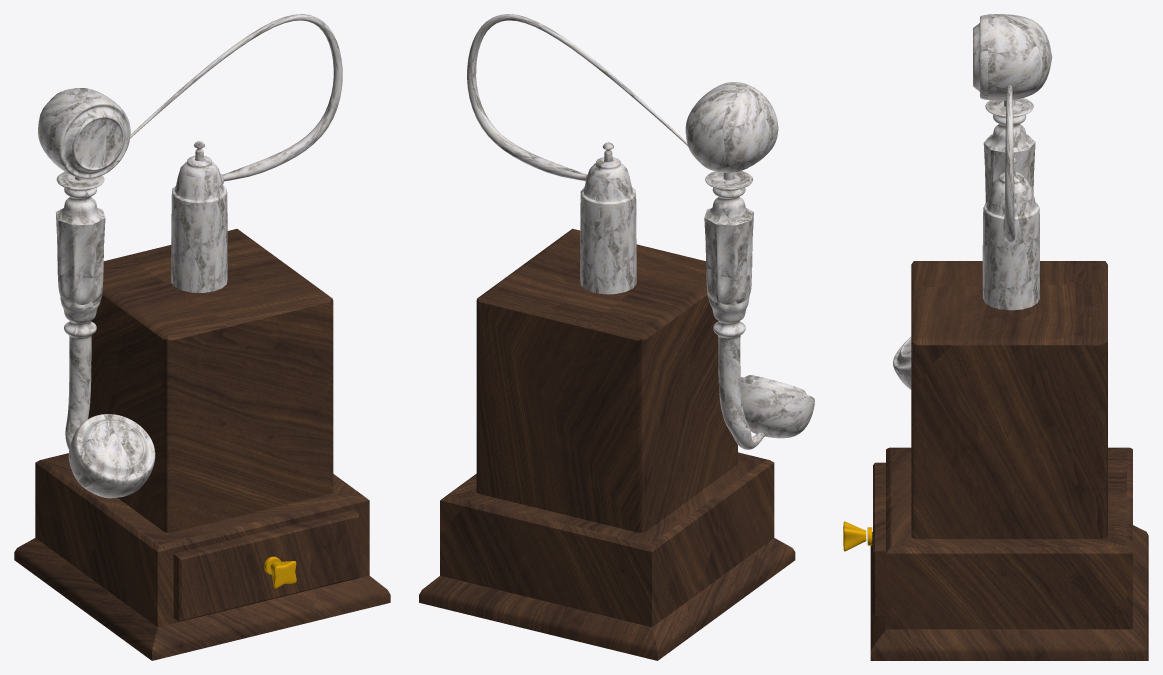
Rendered from telephone.fbx.
The picture shows the model from 3 angles, left to right: view 1: azimuth 30°, elevation 25°; view 2: azimuth 150°, elevation 25°; view 3: azimuth 270°, elevation 25°; orthographic projection.
Visible parts, largest first — view 1: pCube4, polySurface4, pCylinder12, pCylinder15, pCylinder16, pCylinder13, pCylinder17; view 2: pCube4, polySurface4, pCylinder12, pCylinder15, pCylinder13, pCylinder16; view 3: pCube4, pCylinder12, pCylinder15, polySurface4, pCylinder13, pCylinder16, pCylinder17.
Boxes of the visible parts, <box> form: pCube4: <box>14,229,390,660</box>; polySurface4: <box>55,172,105,449</box>; pCylinder12: <box>171,141,227,292</box>; pCylinder15: <box>38,88,130,178</box>; pCylinder16: <box>68,414,155,498</box>; pCylinder13: <box>130,14,342,181</box>; pCylinder17: <box>270,561,296,588</box>; pCube4: <box>419,228,795,660</box>; polySurface4: <box>704,170,765,449</box>; pCylinder12: <box>580,142,636,294</box>; pCylinder15: <box>685,82,778,172</box>; pCylinder13: <box>467,14,687,180</box>; pCylinder16: <box>740,375,814,438</box>; pCube4: <box>870,261,1148,660</box>; pCylinder12: <box>982,158,1039,310</box>; pCylinder15: <box>973,14,1052,100</box>; polySurface4: <box>983,98,1035,202</box>; pCylinder13: <box>1003,85,1015,242</box>; pCylinder16: <box>893,337,911,389</box>; pCylinder17: <box>843,521,866,551</box>.
Size of the model in its own units: 11.46 by 19.58 by 9.86.
5 materials, 4 textured.
